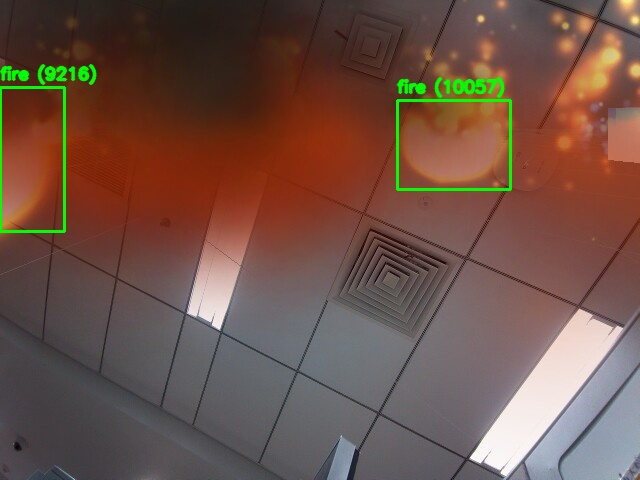fire: (397, 100, 510, 189), (0, 87, 64, 231)
